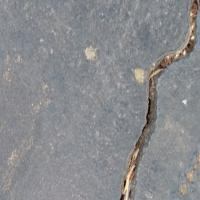crack: (111, 1, 199, 199)
